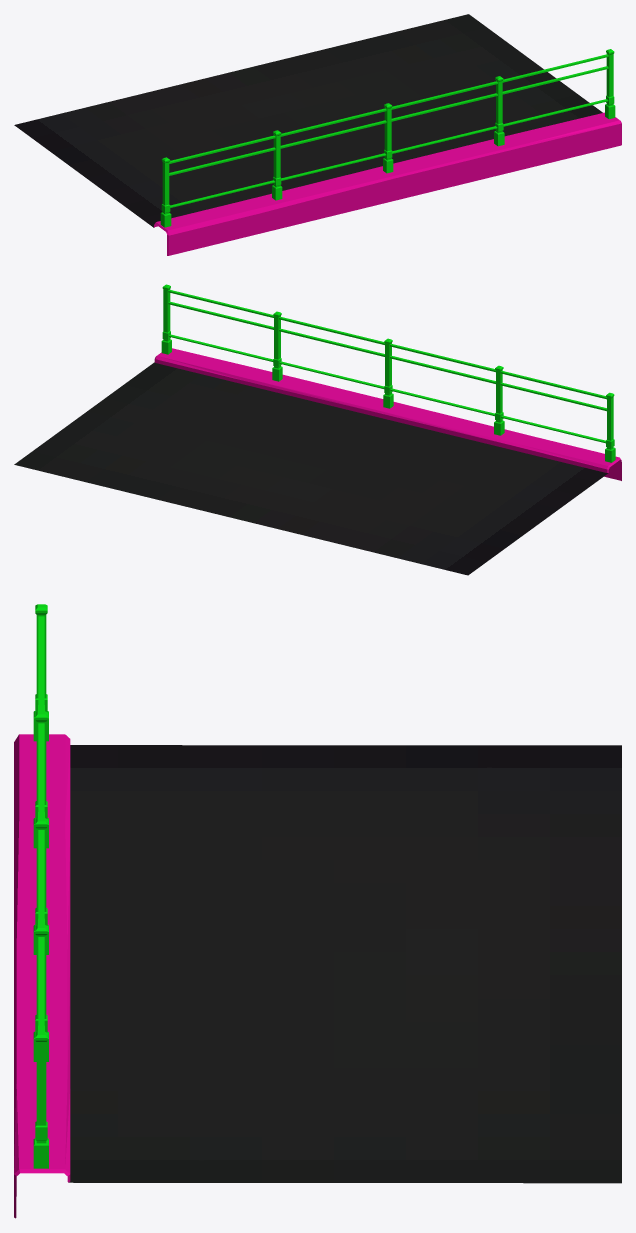
Rendered from City_Fence20.fbx.
3 renders of one model, top to bottom at view 1: azimuth 30°, elevation 25°; view 2: azimuth 150°, elevation 25°; view 3: azimuth 270°, elevation 25°, orthographic. The views are drawn at different scales.
Parts seen in each view (by area): view 1: SM_City_Fence_05b.mo; view 2: SM_City_Fence_05b.mo; view 3: SM_City_Fence_05b.mo.
Boxes of the visible parts, x1,y1,x2,y2 form: SM_City_Fence_05b.mo: [14, 14, 621, 255]; SM_City_Fence_05b.mo: [14, 284, 621, 575]; SM_City_Fence_05b.mo: [14, 604, 621, 1218].
Bounding box in the file's own units: 681 × 131 × 399.
